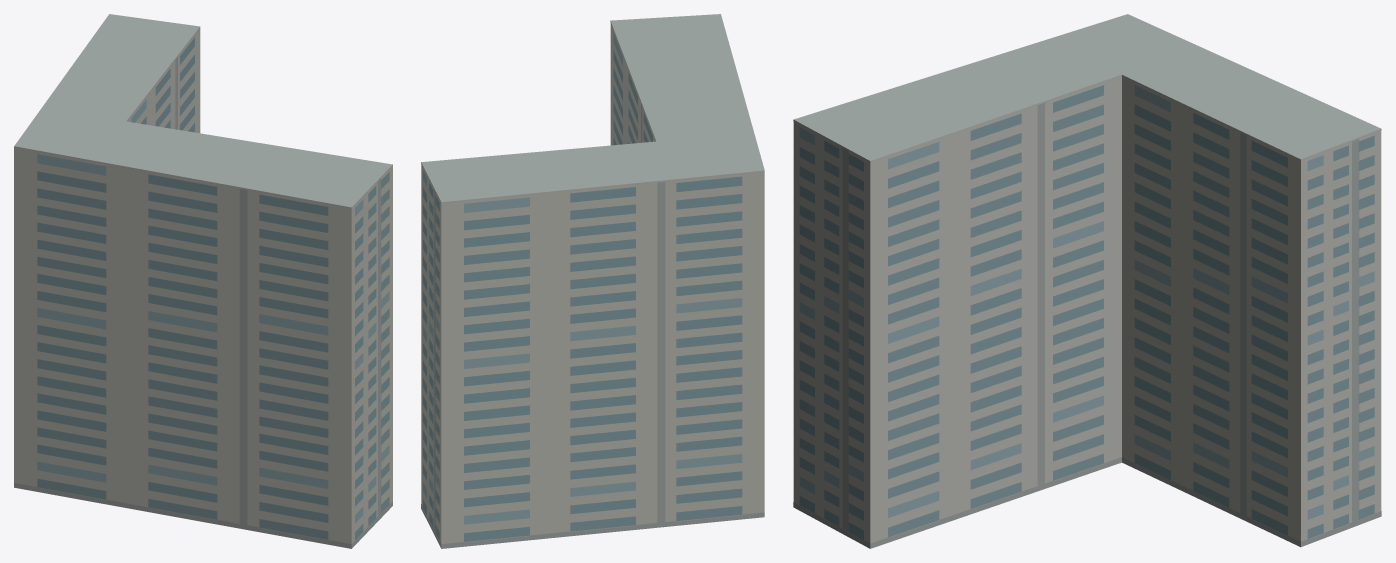
File: residential-c2d77b64-a2c0-444c-a012-296e8a903fe1.glb
The picture shows the model from 3 angles, left to right: view 1: azimuth 30°, elevation 25°; view 2: azimuth 150°, elevation 25°; view 3: azimuth 270°, elevation 25°; orthographic projection. The views are drawn at different scales.
Parts seen in each view (by area): view 1: residential-c2d77b64-a2c0-444c-a012-296e8a903fe1.tmp; view 2: residential-c2d77b64-a2c0-444c-a012-296e8a903fe1.tmp; view 3: residential-c2d77b64-a2c0-444c-a012-296e8a903fe1.tmp.
Boxes of the visible parts, box(x1,y1,x2,y2) form: residential-c2d77b64-a2c0-444c-a012-296e8a903fe1.tmp: box(14, 14, 392, 548); residential-c2d77b64-a2c0-444c-a012-296e8a903fe1.tmp: box(421, 14, 764, 548); residential-c2d77b64-a2c0-444c-a012-296e8a903fe1.tmp: box(793, 14, 1381, 548).
Bounding box in the file's own units: 43.92 × 54 × 74.19.
